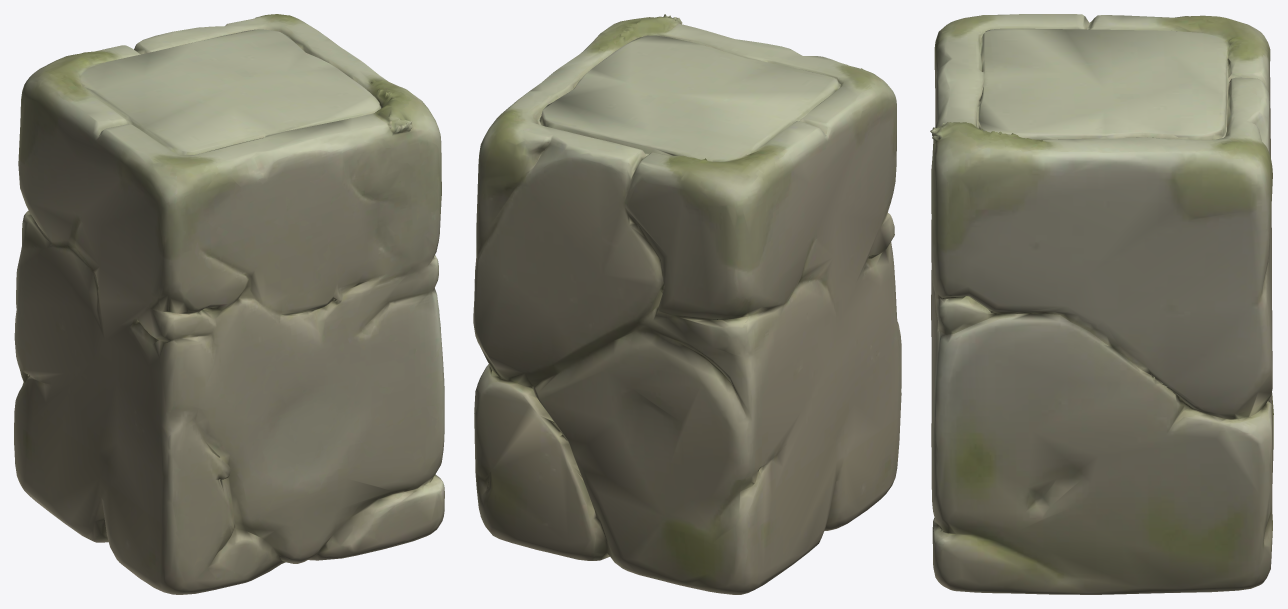
Rendered from pillar.glb.
The picture shows the model from 3 angles, left to right: view 1: azimuth 30°, elevation 25°; view 2: azimuth 150°, elevation 25°; view 3: azimuth 270°, elevation 25°; orthographic projection. The views are drawn at different scales.
Visible parts, largest first — view 1: world; view 2: world; view 3: world.
Boxes of the visible parts, x1,y1,x2,y2 form: world: [14, 14, 444, 594]; world: [473, 14, 901, 594]; world: [930, 14, 1273, 594].
Bounding box in the file's own units: 0.679 × 0.9994 × 0.6841.
Materials: 1 (1 with a texture image).
